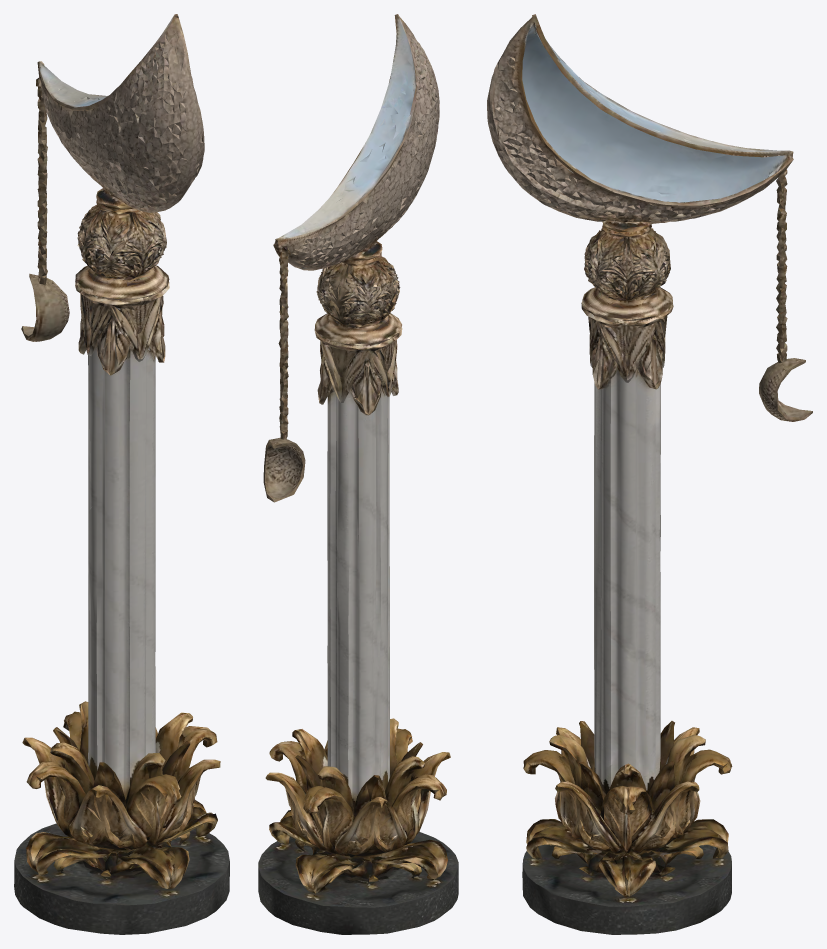
File: SE-00_lamp_game.glb
3 renders of one model, left to right at view 1: azimuth 30°, elevation 25°; view 2: azimuth 150°, elevation 25°; view 3: azimuth 270°, elevation 25°, orthographic. The views are drawn at different scales.
Parts seen in each view (by area): view 1: SE-00_lamp; view 2: SE-00_lamp; view 3: SE-00_lamp.
Boxes of the visible parts, x1,y1,x2,y2 form: SE-00_lamp: [14, 14, 229, 934]; SE-00_lamp: [258, 14, 458, 934]; SE-00_lamp: [487, 14, 812, 934].
Bounding box in the file's own units: 0.1299 × 0.5998 × 0.2012.
1 material, 1 textured.
